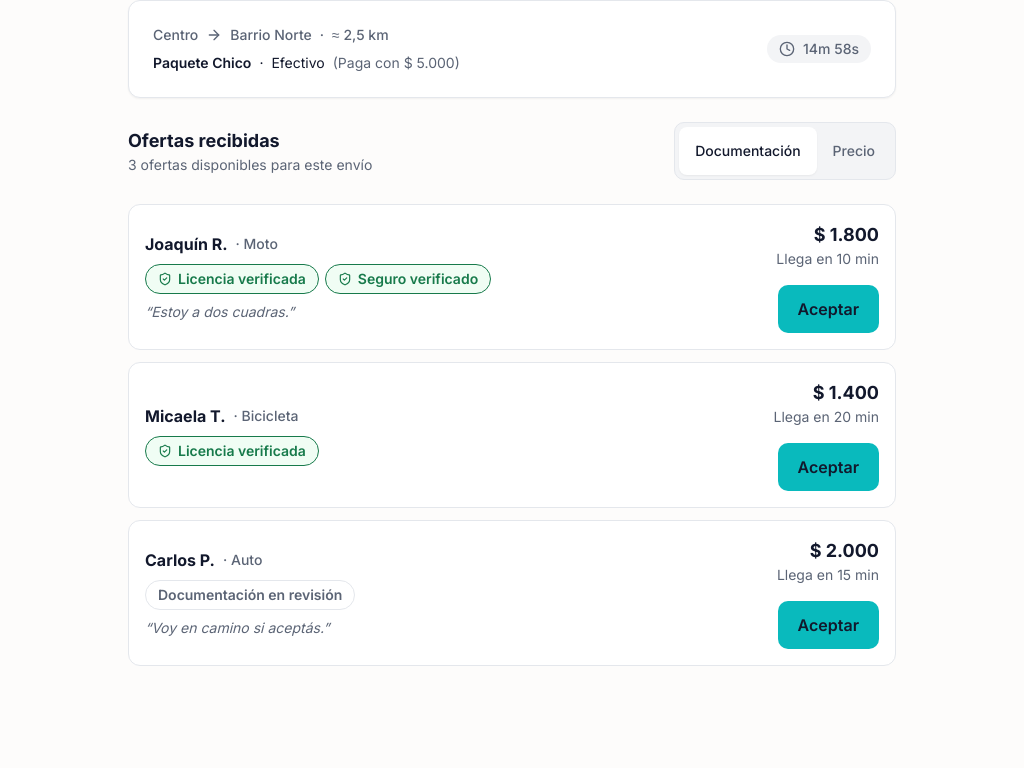
T-113 DoD: UI de ofertas en tiempo real y aceptación › DoD: Manejo de error ALREADY_MATCHED al aceptar
Click the button "Aceptar" below "10" at (828, 309), box 778,285 -> 879,333
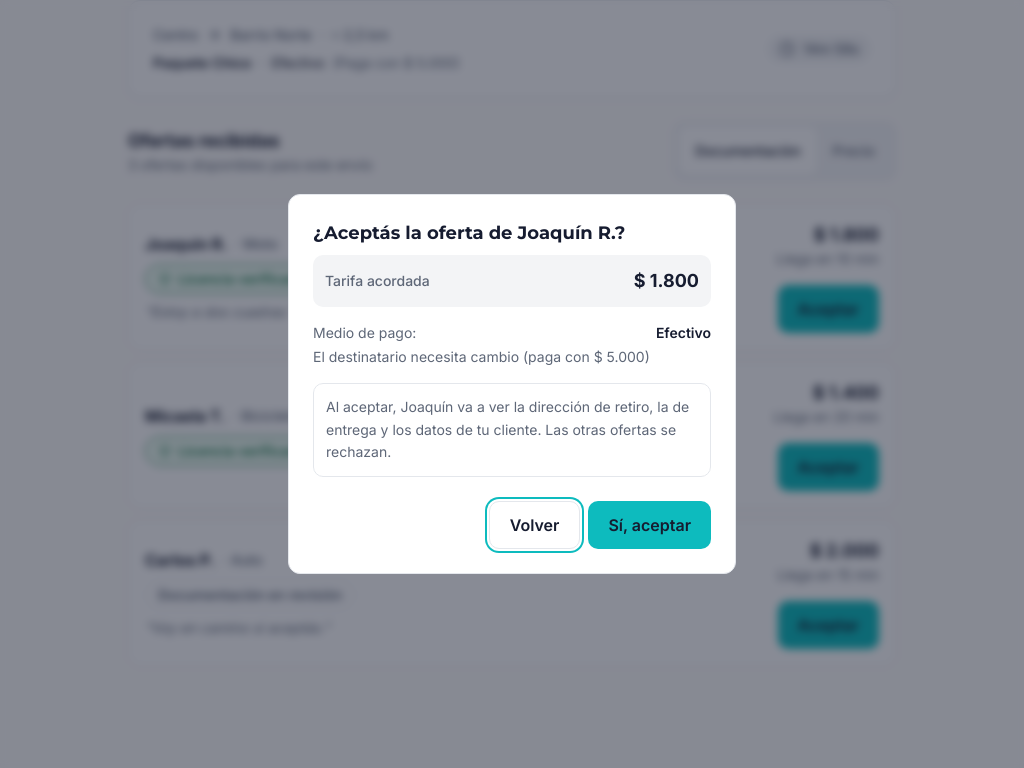
Click the button "Sí, aceptar" at (650, 525), box 588,501 -> 711,549
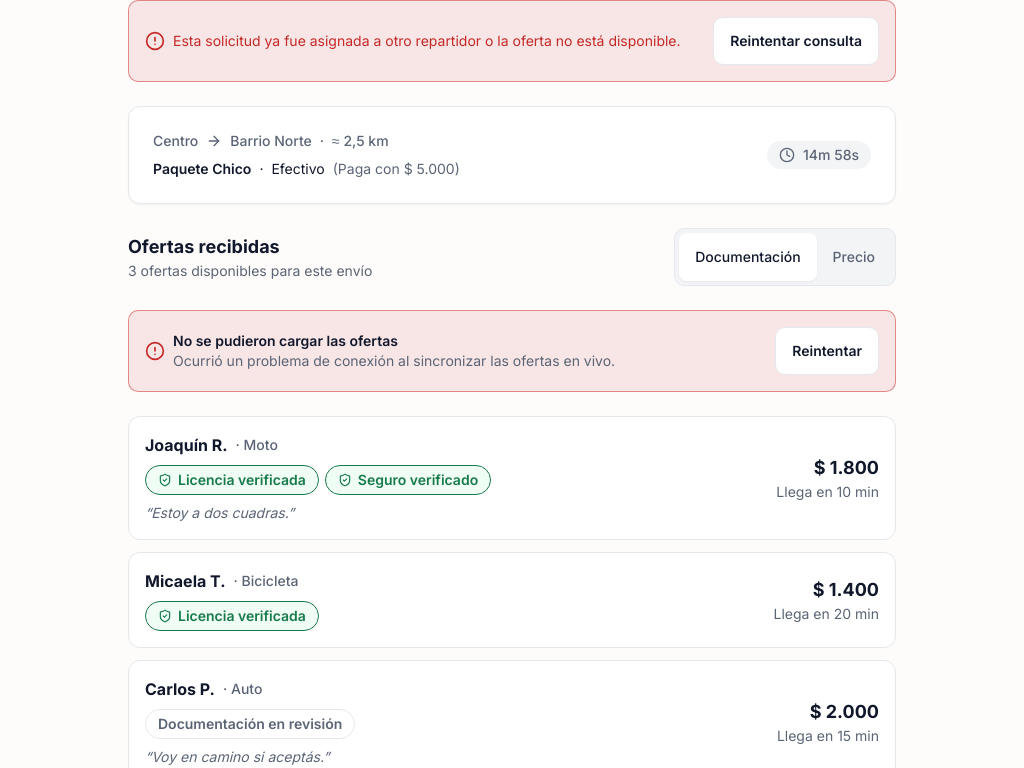
Expected: the text "Esta solicitud ya fue asignada a otro repartidor o la oferta no está disponible." is shown, 173,31 -> 680,51
